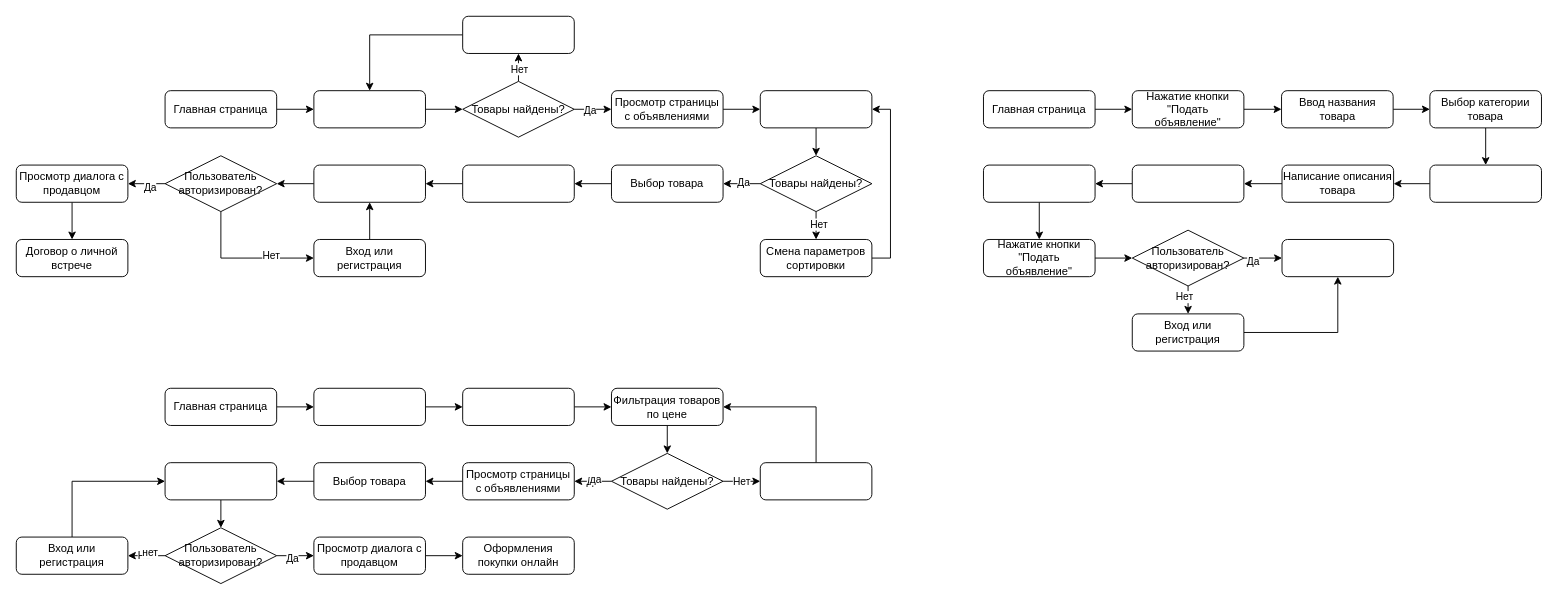
Image size: 1558x600. Some labels were removed from this diagram. The box of each missing label's shape, as (x1, y1, x2, y2) in pixels:
Выбор быстрого вопроса пункта "Спросите у продавца": (164, 462, 277, 500)
Выбор общей категории товаров: (313, 387, 425, 425)
Выбор региона: (983, 164, 1095, 202)
Выбор точной категории товаров: (462, 387, 574, 425)
Выбор цены товара: (1131, 164, 1244, 202)
Загрузка фотографий товара: (1429, 164, 1541, 202)
Нажатие кнопки "Написать": (313, 164, 425, 202)
Подтверждение данных: (1281, 239, 1394, 277)
Поиск товаров: (313, 90, 425, 128)
Просмотр страницы товара: (462, 164, 574, 202)
Смена параметров поиска: (462, 15, 574, 53)
Смена параметров фильтрации: (759, 462, 872, 500)
Сортировка товаров: (759, 90, 872, 128)
